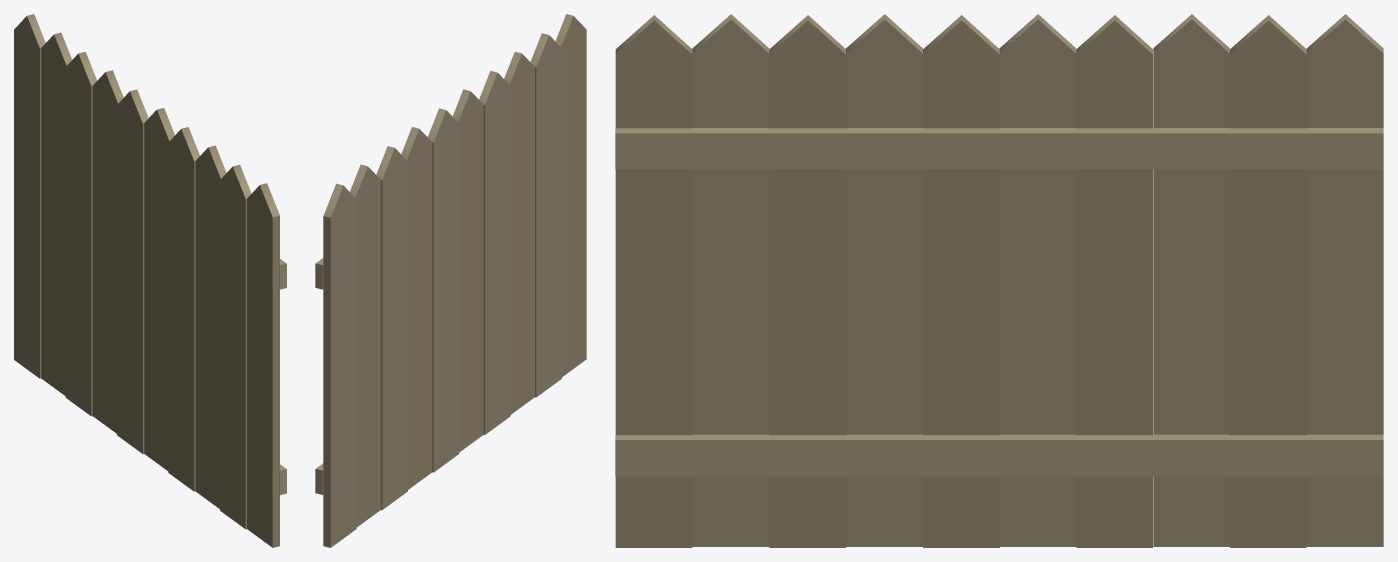
File: fence_10posts.fbx
3 views of the same model, side by side, from view 1: azimuth 30°, elevation 25°; view 2: azimuth 150°, elevation 25°; view 3: azimuth 270°, elevation 25° (orthographic). The views are drawn at different scales.
Parts seen in each view (by area): view 1: pCube66, pCube70, pCube62, pCube71, pCube73, pCube65, pCube64, pCube63, pCube72, pCube69; view 2: pCube70, pCube73, pCube62, pCube65, pCube71, pCube66, pCube63, pCube72, pCube69, pCube64; view 3: pCube66, pCube64, pCube70, pCube65, pCube63, pCube69, pCube72, pCube73, pCube62, pCube71, pCube75, pCube68 (+2 smaller).
Part boxes in pixels (x1,y1,x2,y2): pCube66: (247, 183, 279, 547); pCube70: (14, 14, 45, 378); pCube62: (168, 127, 199, 491); pCube71: (65, 51, 97, 416); pCube73: (117, 89, 148, 453); pCube65: (220, 164, 251, 529); pCube64: (195, 145, 226, 508); pCube63: (144, 108, 174, 470); pCube72: (92, 70, 123, 433); pCube69: (41, 32, 71, 395); pCube70: (323, 183, 356, 547); pCube73: (427, 108, 459, 472); pCube62: (479, 71, 510, 434); pCube65: (530, 33, 561, 397); pCube71: (376, 146, 407, 510); pCube66: (555, 14, 586, 376); pCube63: (452, 89, 483, 452); pCube72: (401, 127, 432, 489); pCube69: (350, 164, 380, 527); pCube64: (504, 52, 534, 414); pCube66: (615, 15, 692, 547); pCube64: (769, 15, 846, 547); pCube70: (1306, 14, 1383, 546); pCube65: (692, 14, 769, 546); pCube63: (923, 15, 999, 547); pCube69: (1230, 15, 1306, 547); pCube72: (1076, 15, 1152, 547); pCube73: (999, 14, 1076, 546); pCube62: (846, 14, 922, 546); pCube71: (1153, 14, 1229, 546); pCube75: (999, 434, 1383, 476); pCube68: (615, 434, 999, 476).
Size of the model in its own units: 0.0484 by 1.07 by 1.41.
